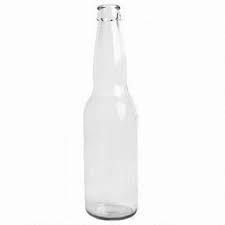Glass bottle: (64, 2, 157, 225)
